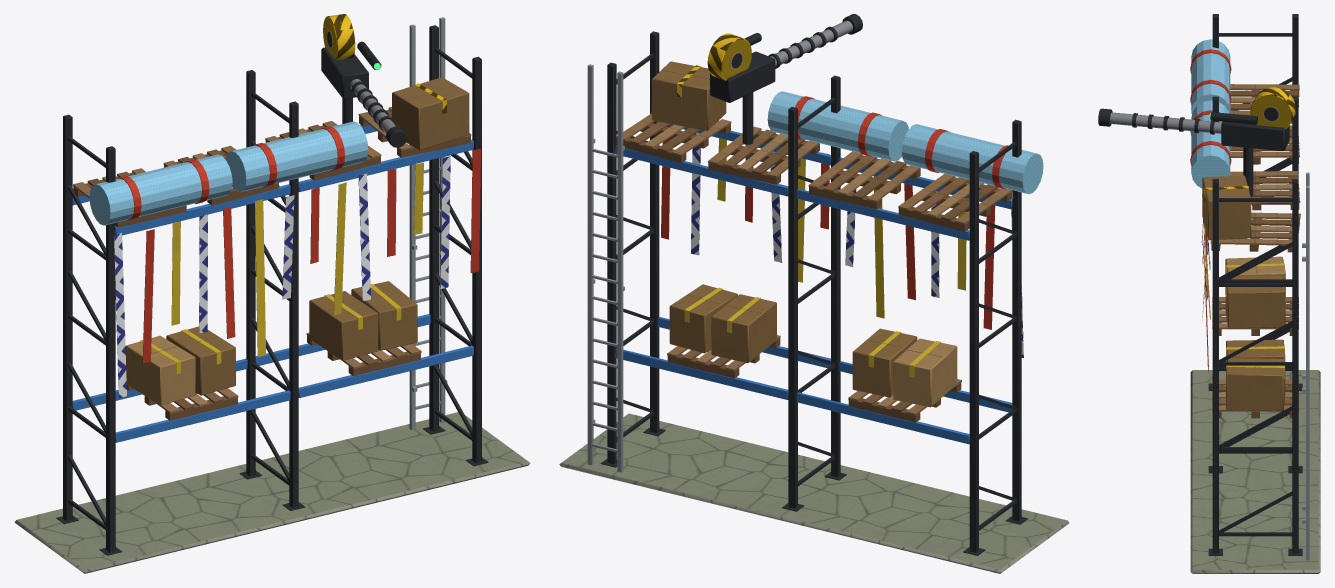
Rendered from spooler_sniper_gantry.glb.
3 renders of one model, left to right at view 1: azimuth 30°, elevation 25°; view 2: azimuth 150°, elevation 25°; view 3: azimuth 270°, elevation 25°, orthographic. The views are drawn at different scales.
Visible parts, largest first — view 1: spooler_sniper_gantry; view 2: spooler_sniper_gantry; view 3: spooler_sniper_gantry.
Boxes of the visible parts, x1,y1,x2,y2 form: spooler_sniper_gantry: (14,14,530,573); spooler_sniper_gantry: (559,14,1069,573); spooler_sniper_gantry: (1098,14,1320,573).
Bounding box in the file's own units: 6.6 × 6.37 × 3.08.
Materials: 21 (20 with a texture image).
